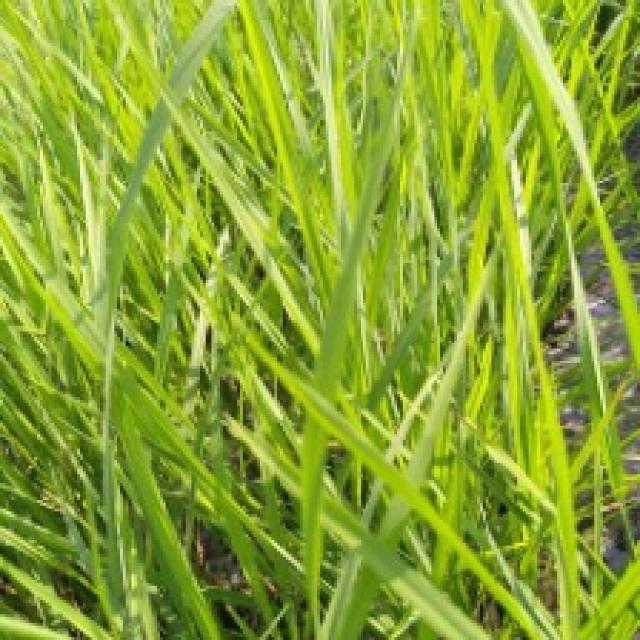Unhealthy: (502, 0, 594, 188), (569, 233, 606, 408), (503, 105, 530, 271)
